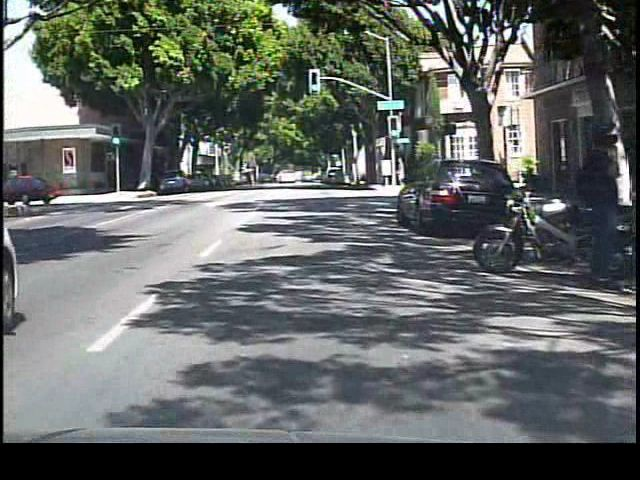person: (567, 132, 620, 292), (391, 155, 409, 191)
